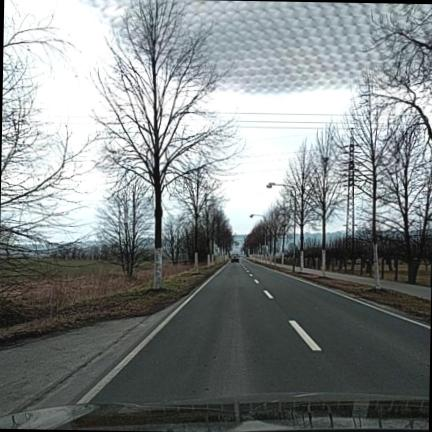Road: (92, 260, 430, 403)
